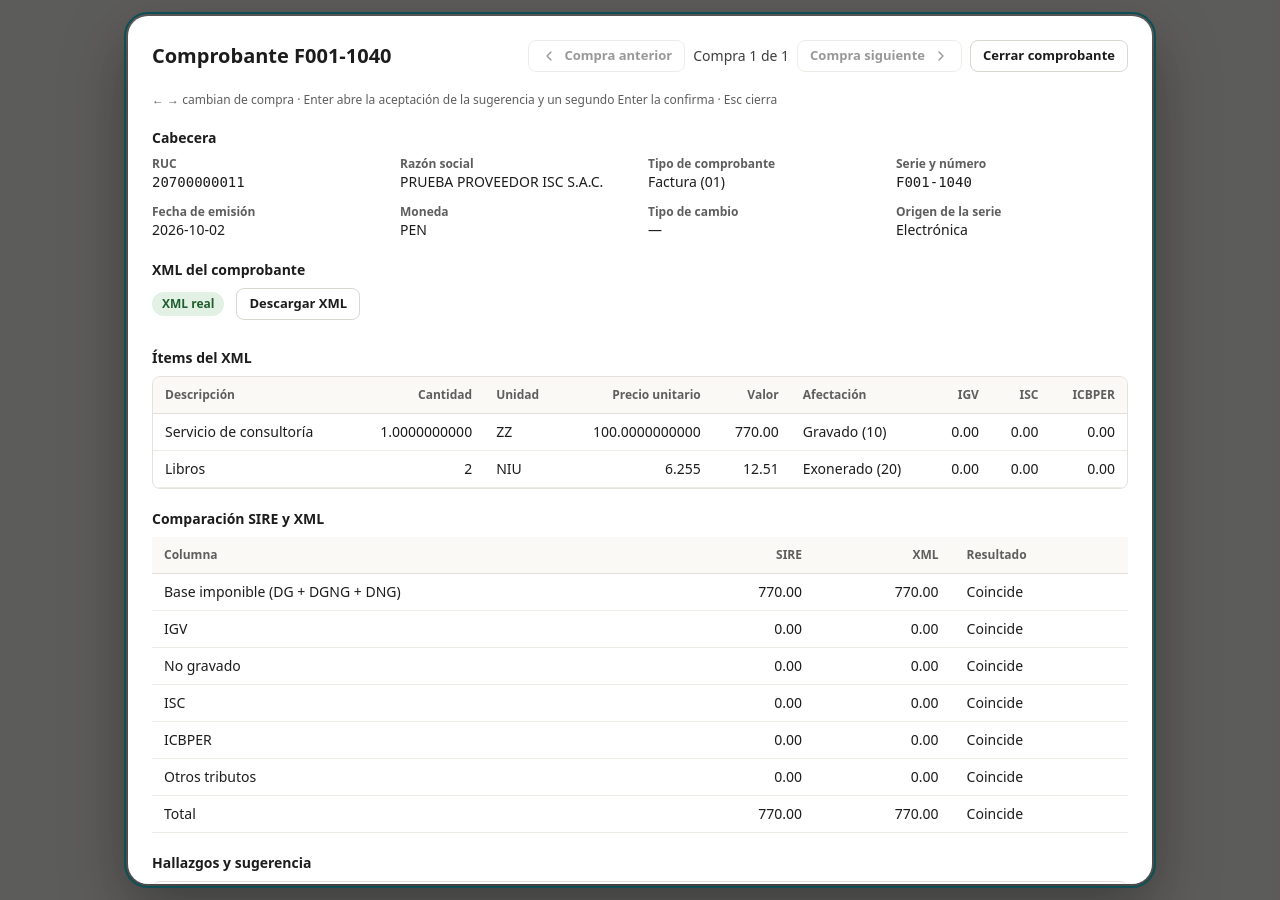
Lupa · descargar XML (CA-17) › error: un 404 se avisa y no guarda nada
The image size is (1280, 900).
Click the button "Descargar XML": [298, 304] box [236,288,360,320]
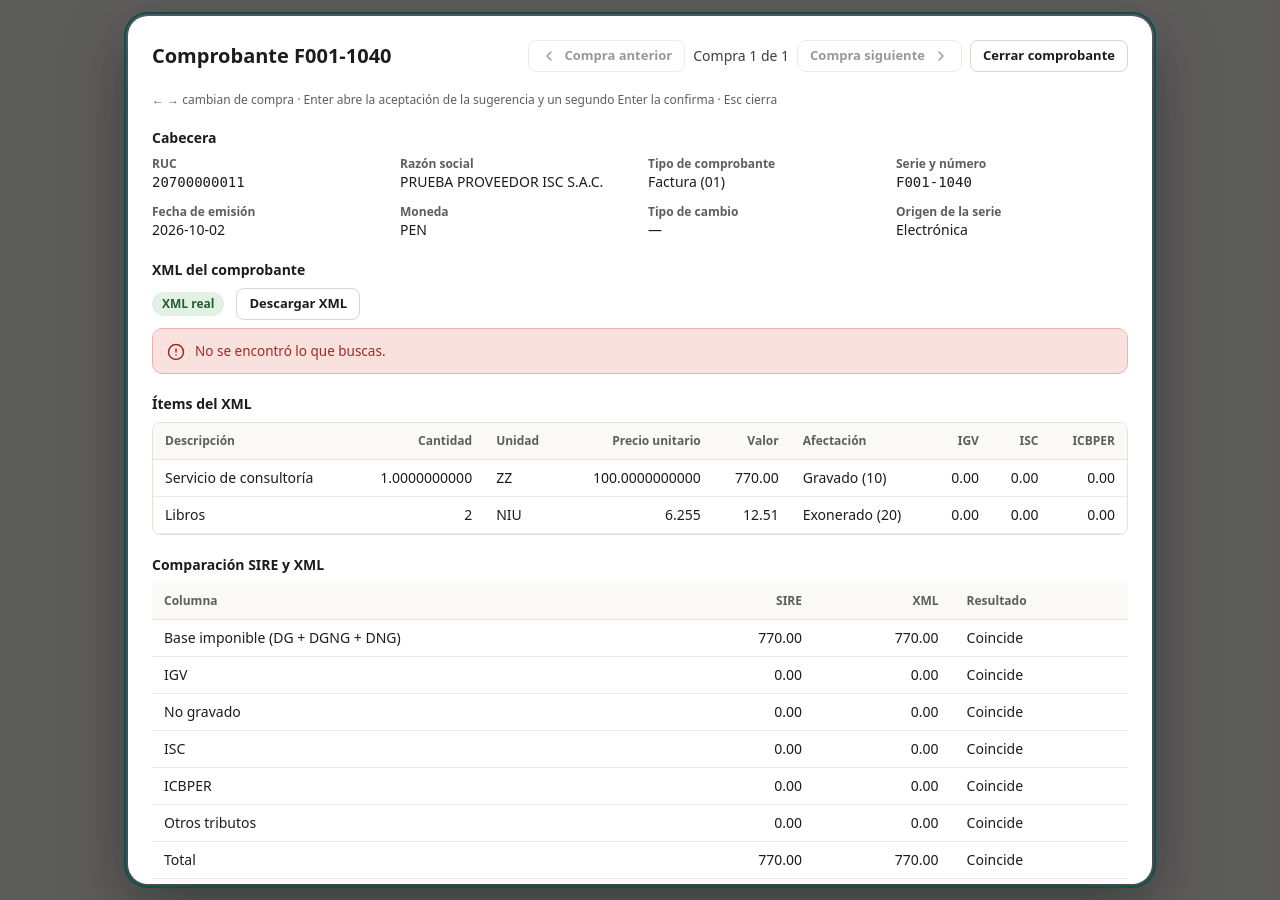
Expected: the message reads "No se encontró lo que buscas.", [195,342,386,360]
